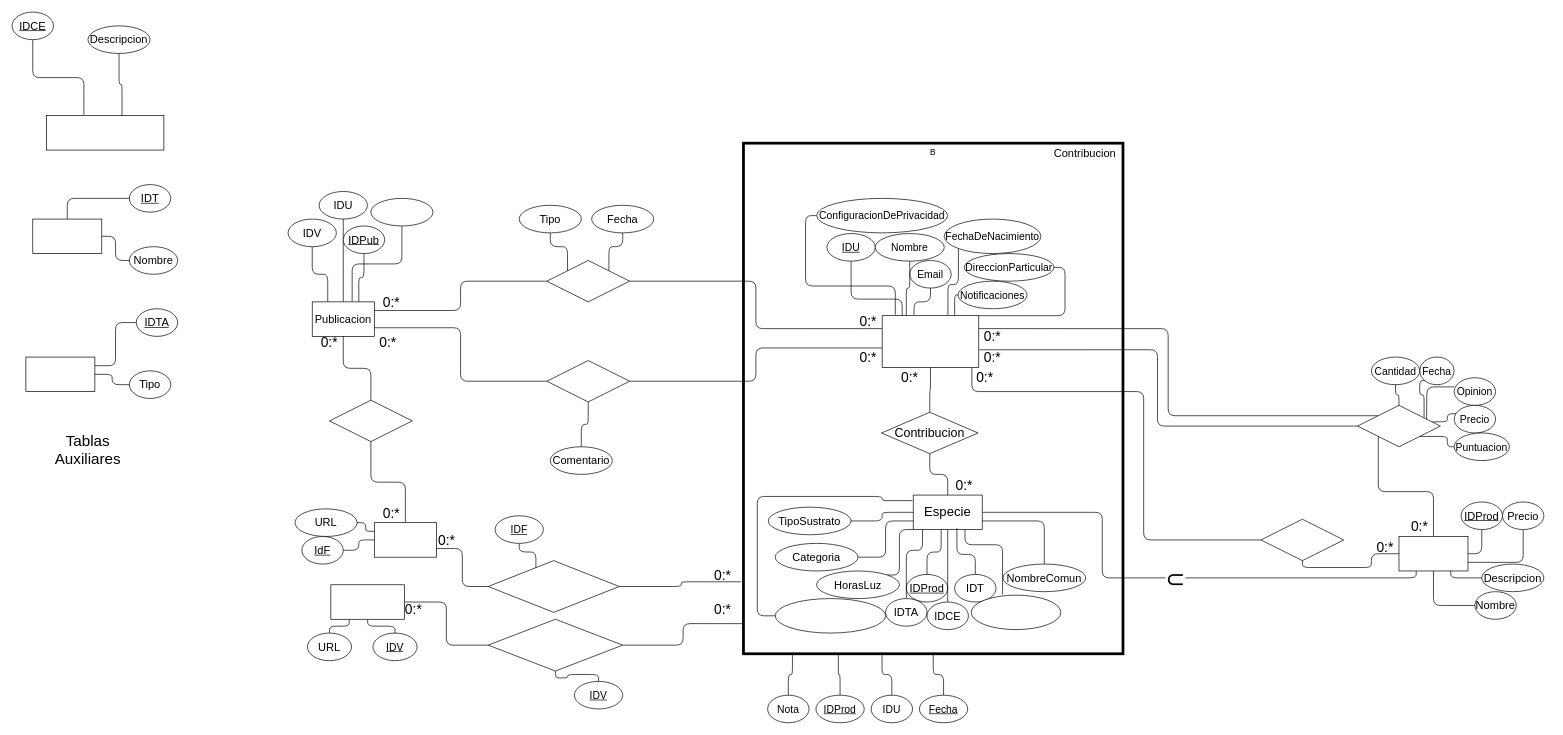
This 1563x735 diagram has some shape labels left out. Each missing label, with the centre of its shape:
Comentar: the point at 588,381
Compra: the point at 1398,426
Contribucion_Foto: the point at 553,586
Contribucion_Video: the point at 555,645
Cuidados_Especificos: the point at 105,132
Foto: the point at 405,539
Gustar: the point at 1302,540
LitrosMinimosTanque: the point at 830,615
NombreCientifico: the point at 1015,612
Producto: the point at 1433,553
Reaccionar: the point at 588,281
Temporada: the point at 67,236
Tener_Foto: the point at 370,421
Texto: the point at 401,212
TipoAgua: the point at 60,374
Usuario: the point at 930,341
Video: the point at 367,601
